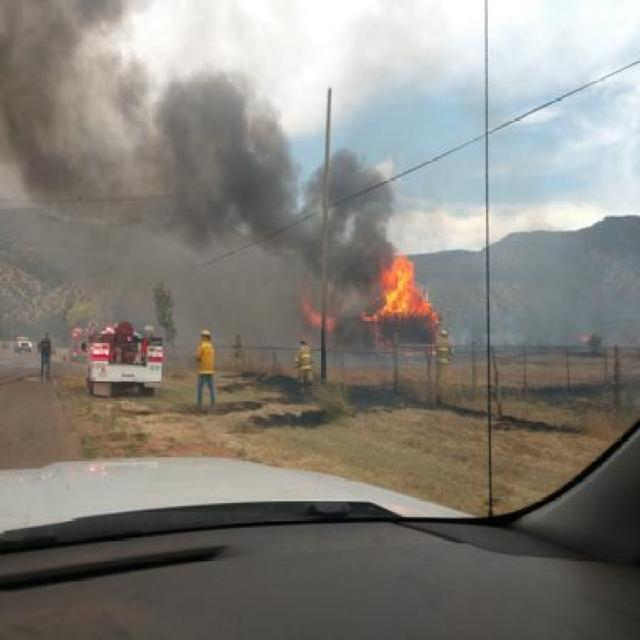Fire: (376, 248, 436, 322), (302, 285, 340, 346)
Smoke: (2, 2, 384, 272)
